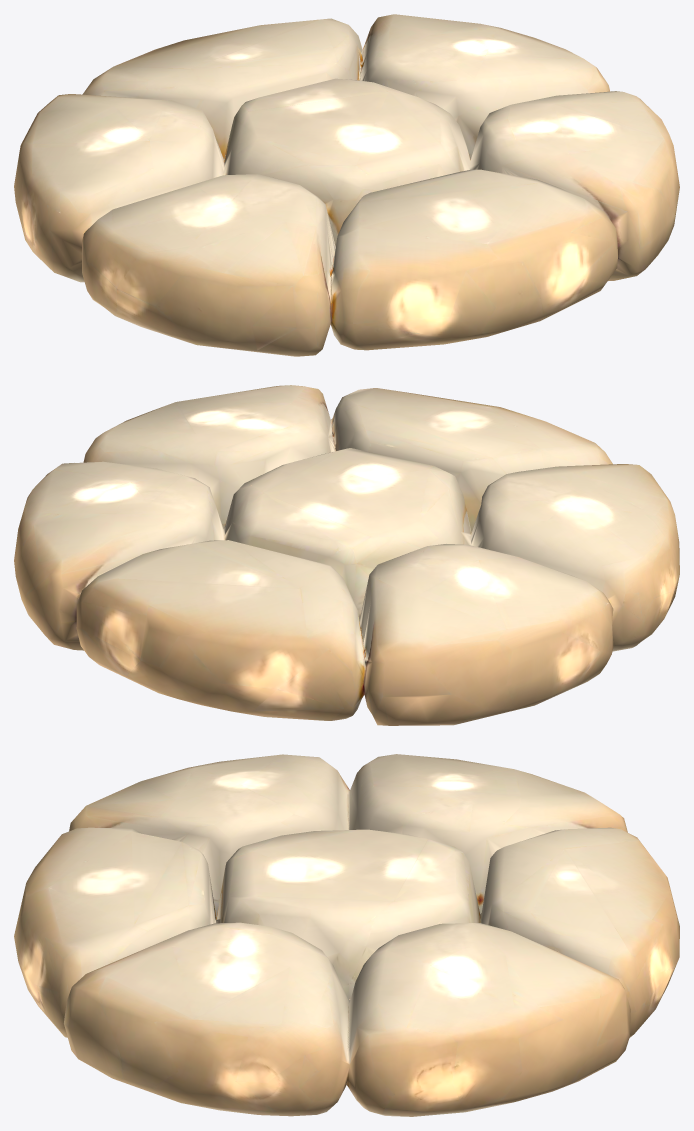
Rendered from clay-path-tile.glb.
3 renders of one model, top to bottom at view 1: azimuth 30°, elevation 25°; view 2: azimuth 150°, elevation 25°; view 3: azimuth 270°, elevation 25°, orthographic. The views are drawn at different scales.
Size of the model in its own units: 1.91 by 0.4281 by 1.84.
1 material, 1 textured.
